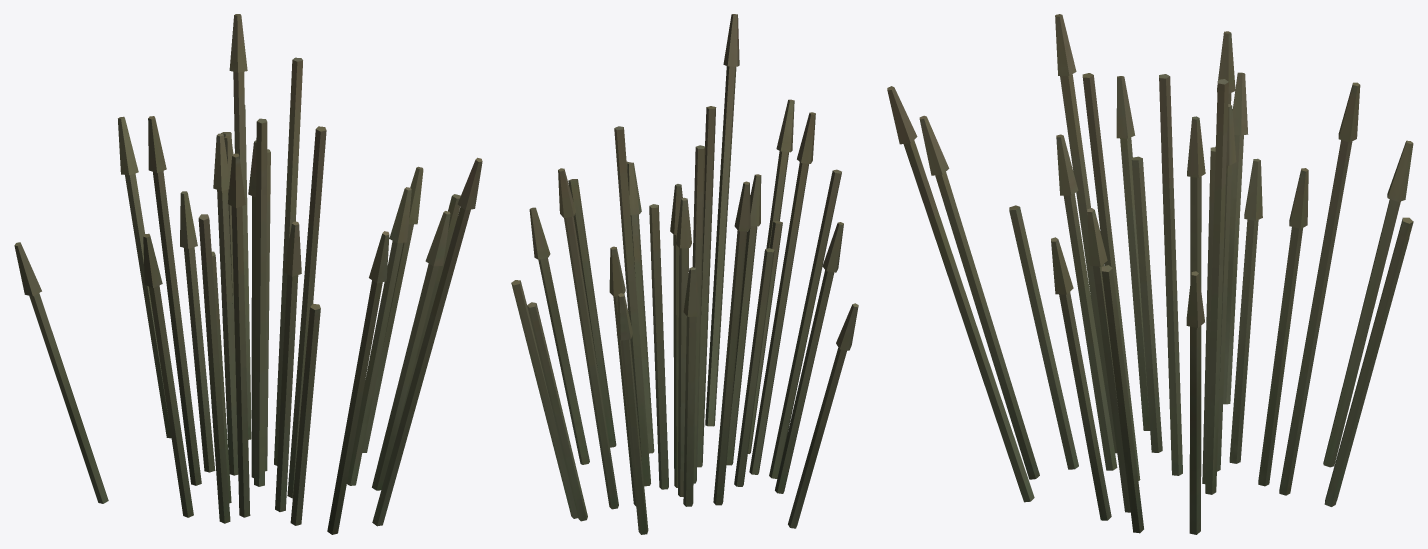
The model's file is a39_reed.glb.
3 renders of one model, left to right at view 1: azimuth 30°, elevation 25°; view 2: azimuth 150°, elevation 25°; view 3: azimuth 270°, elevation 25°, orthographic. The views are drawn at different scales.
Parts seen in each view (by area): view 1: body; view 2: body; view 3: body.
Boxes of the visible parts, <box> form: body: <box>14,14,482,534</box>; body: <box>511,14,858,534</box>; body: <box>887,14,1413,534</box>.
Size of the model in its own units: 0.9095 by 0.9074 by 1.
Materials: 1 (1 with a texture image).
